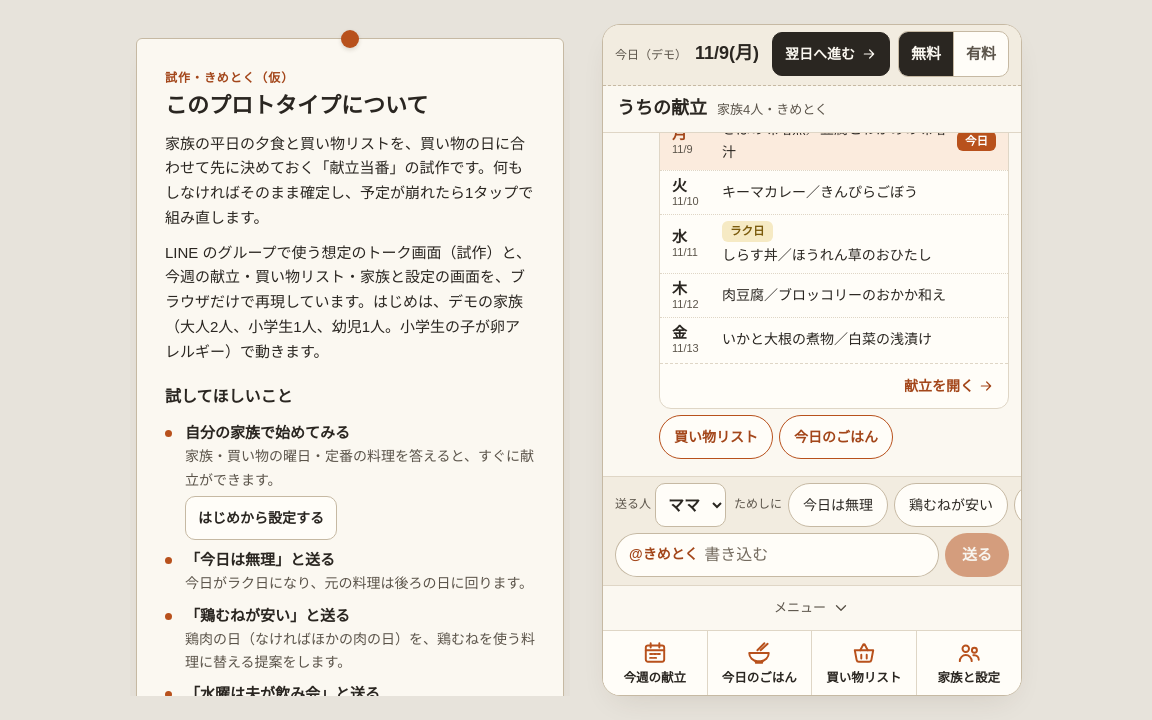
it: 画面での AI の読み取り › sample が commands を返すと「AIで読み取り」の印が付く
(page scrolled)
Type "卵切れた" into the field named "きめとくへの書き込み" at {"x": 815, "y": 555}, box x1=704 y1=533 x2=925 y2=577
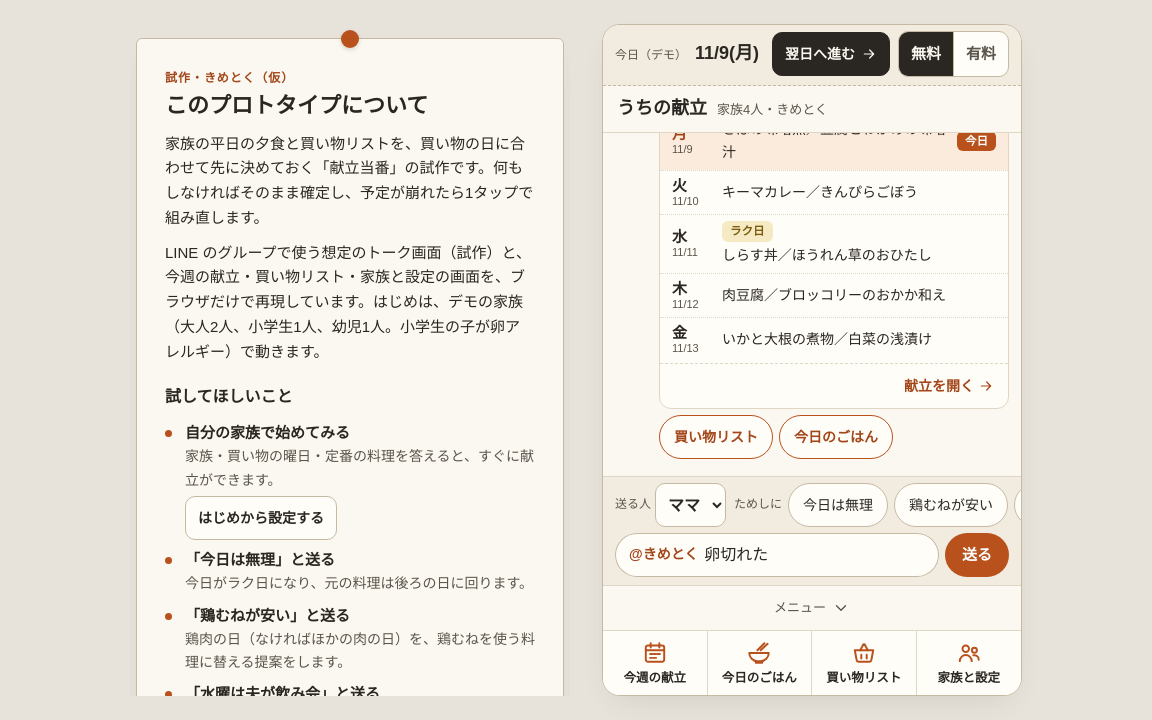
Click the button "送る" at {"x": 977, "y": 555}, box x1=945 y1=533 x2=1009 y2=577
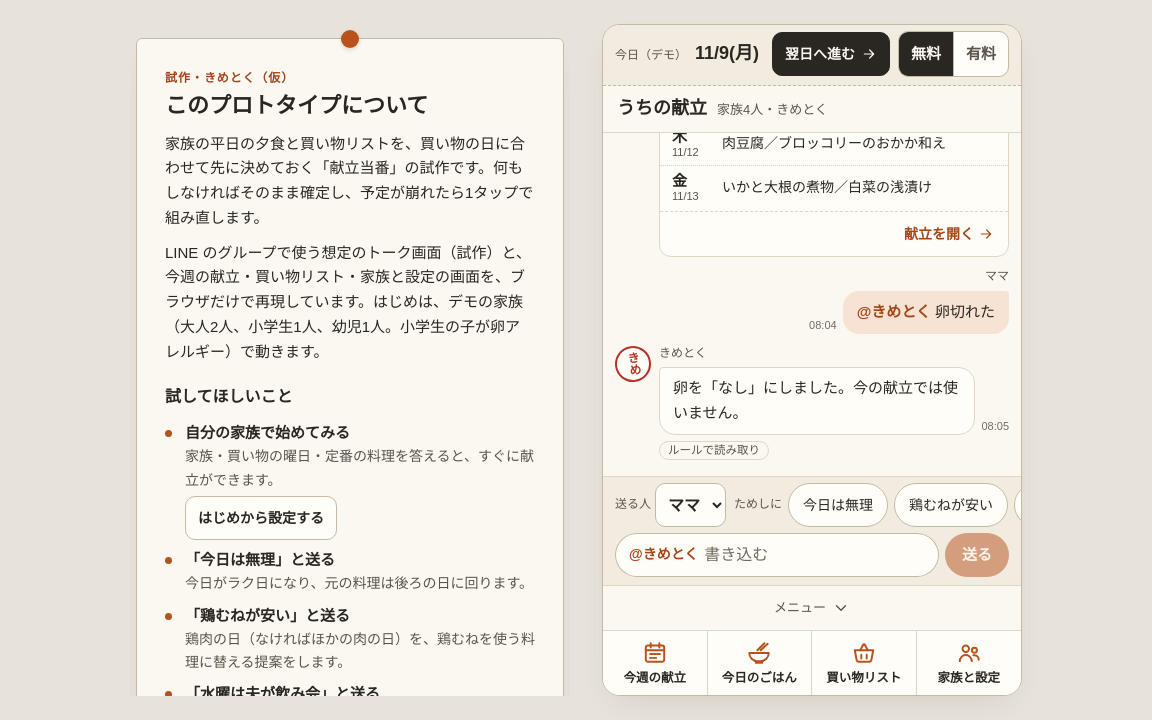
Check: the text "ルールで読み取り" is shown, box x1=659 y1=441 x2=769 y2=460
Type "ふわふわのやつ" into the field named "きめとくへの書き込み" at {"x": 815, "y": 555}, box x1=704 y1=533 x2=925 y2=577
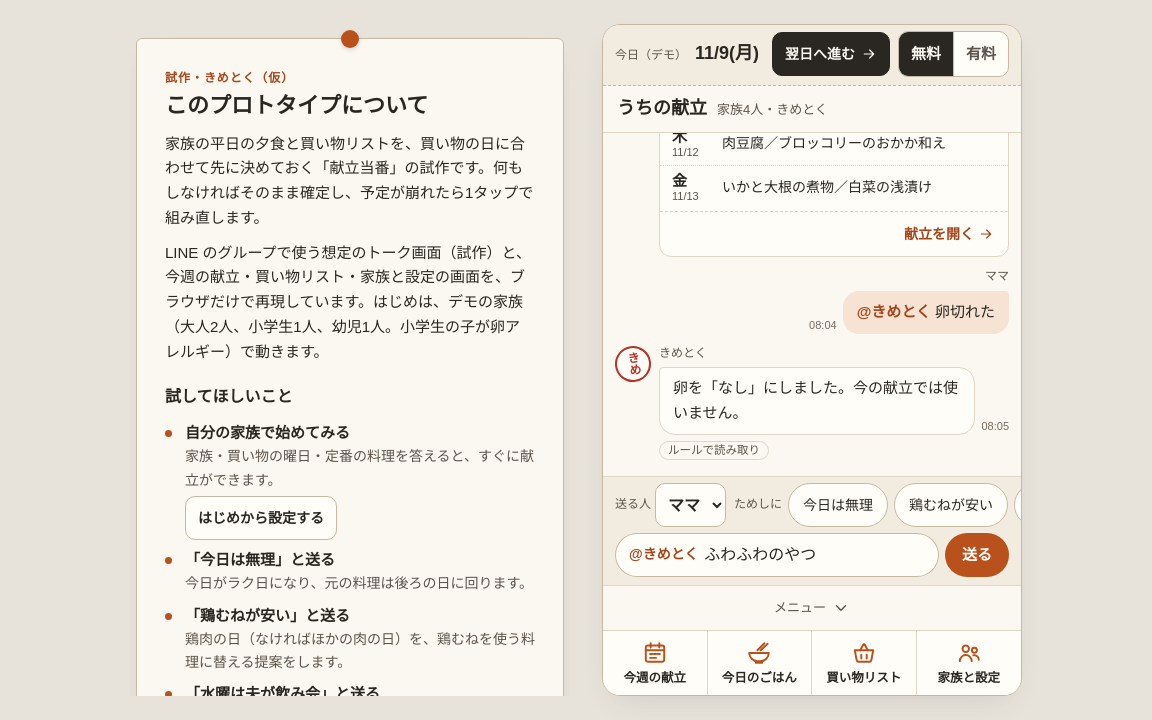
Click the button "送る" at {"x": 977, "y": 555}, box x1=945 y1=533 x2=1009 y2=577
(page scrolled)
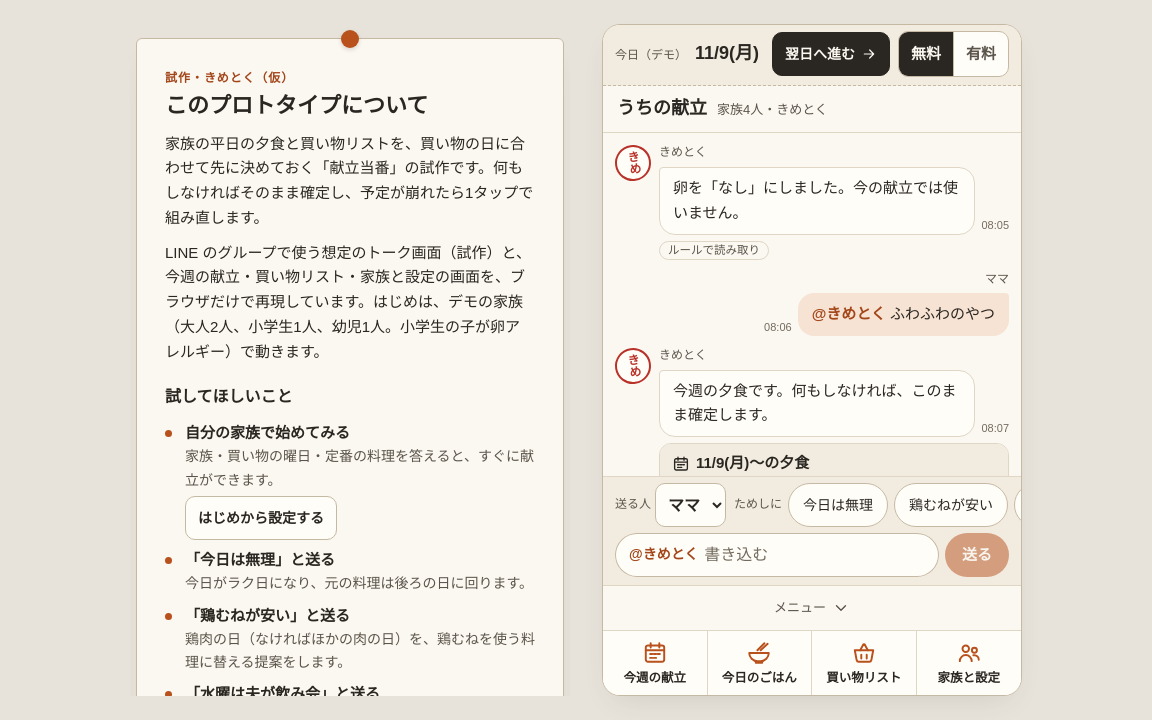
Check: the element showing "ママ 08:06 @きめとく ふわふわのやつ" is shown, box x1=764 y1=272 x2=1009 y2=336
